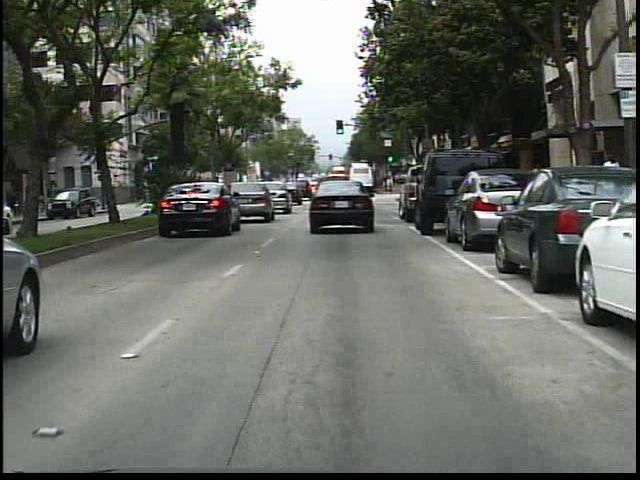person: (598, 151, 625, 228)
